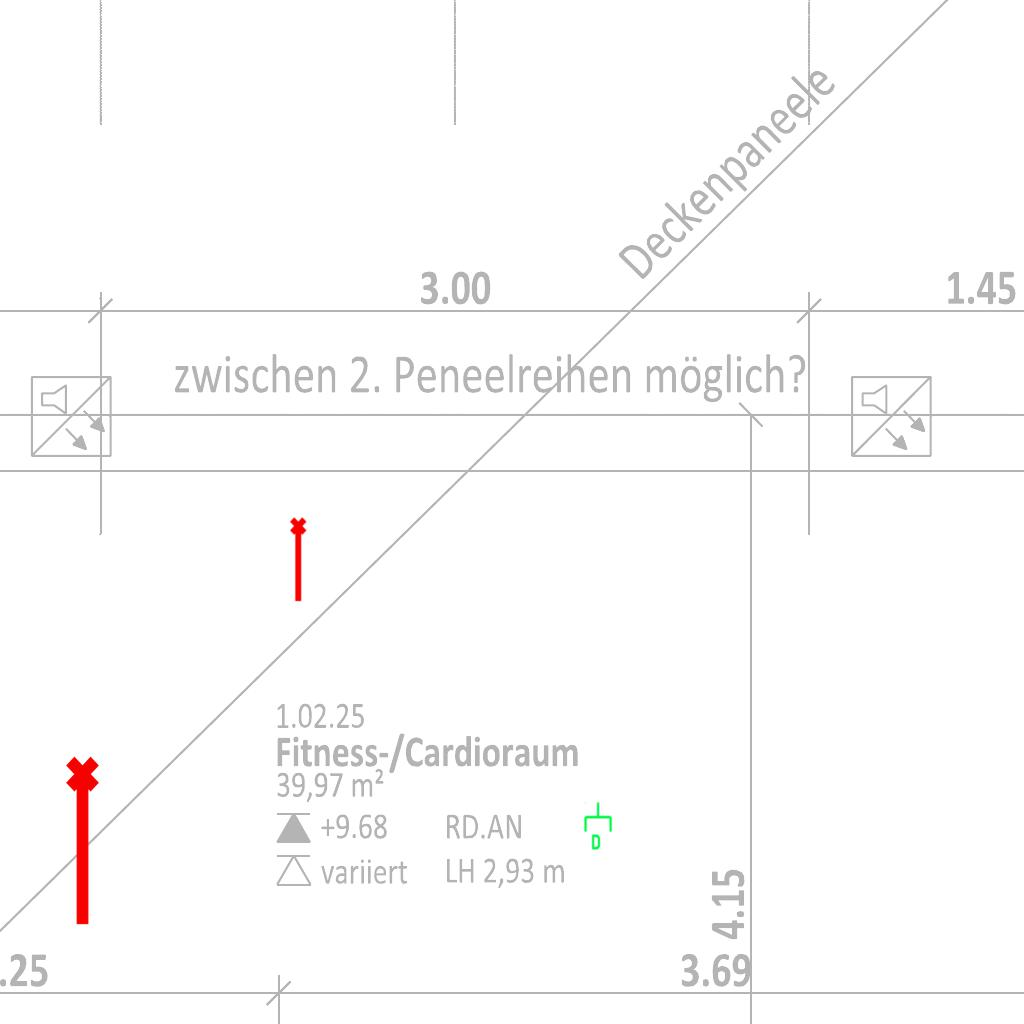ASR_Ansaugoeffnung: (62, 754, 108, 930), (288, 516, 311, 604)
Datenanschluss_einfach: (582, 801, 616, 851)
